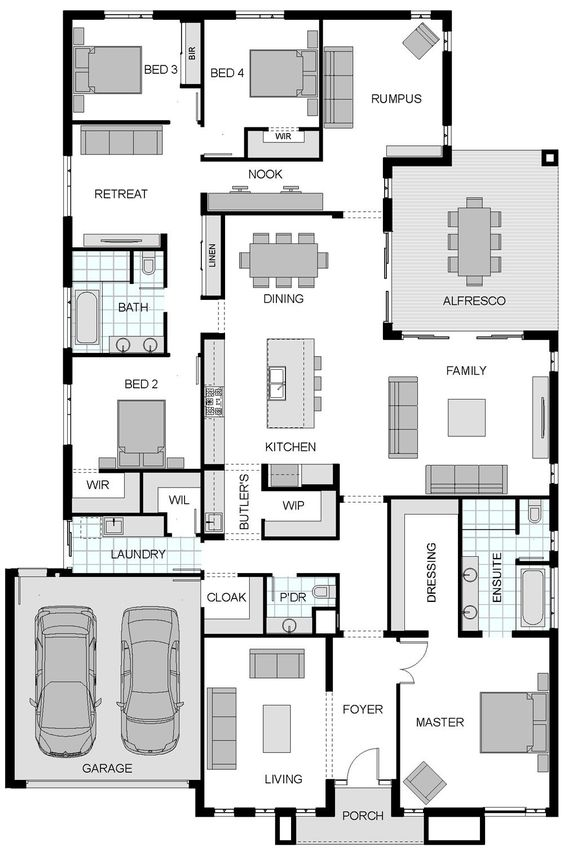room: (318, 10, 451, 166), (61, 352, 204, 473), (64, 12, 205, 125), (199, 10, 323, 131), (457, 495, 558, 638), (63, 247, 167, 357)
window: (547, 566, 561, 628), (60, 156, 73, 217), (61, 286, 74, 347), (61, 383, 74, 444), (483, 807, 545, 817), (103, 8, 154, 20), (233, 9, 284, 21)
